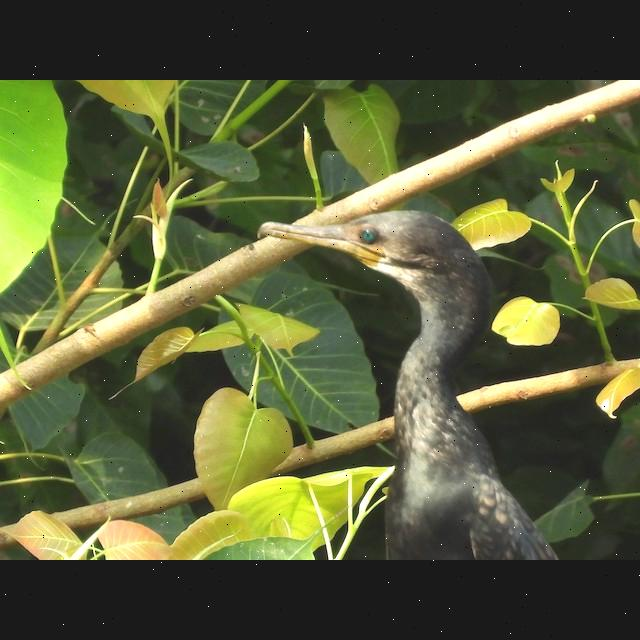cormorant: (251, 204, 575, 560)
